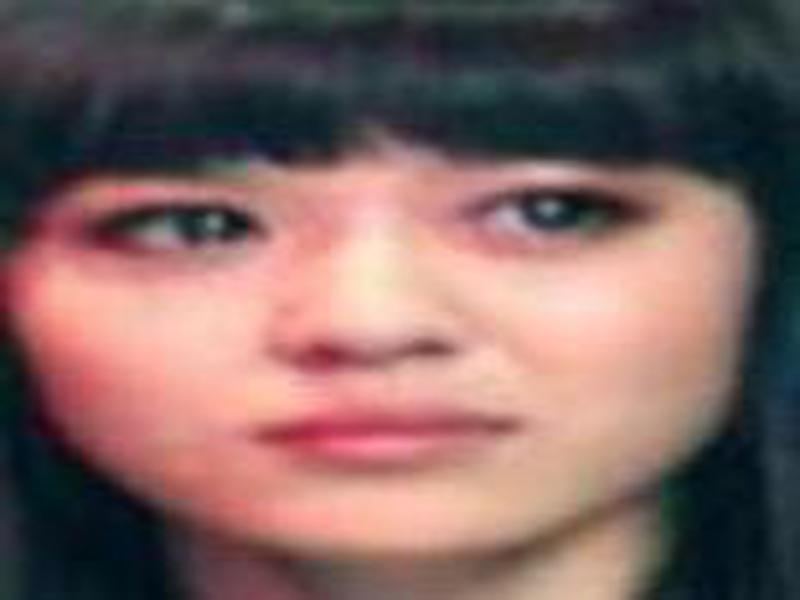without_mask: (12, 133, 757, 561)
